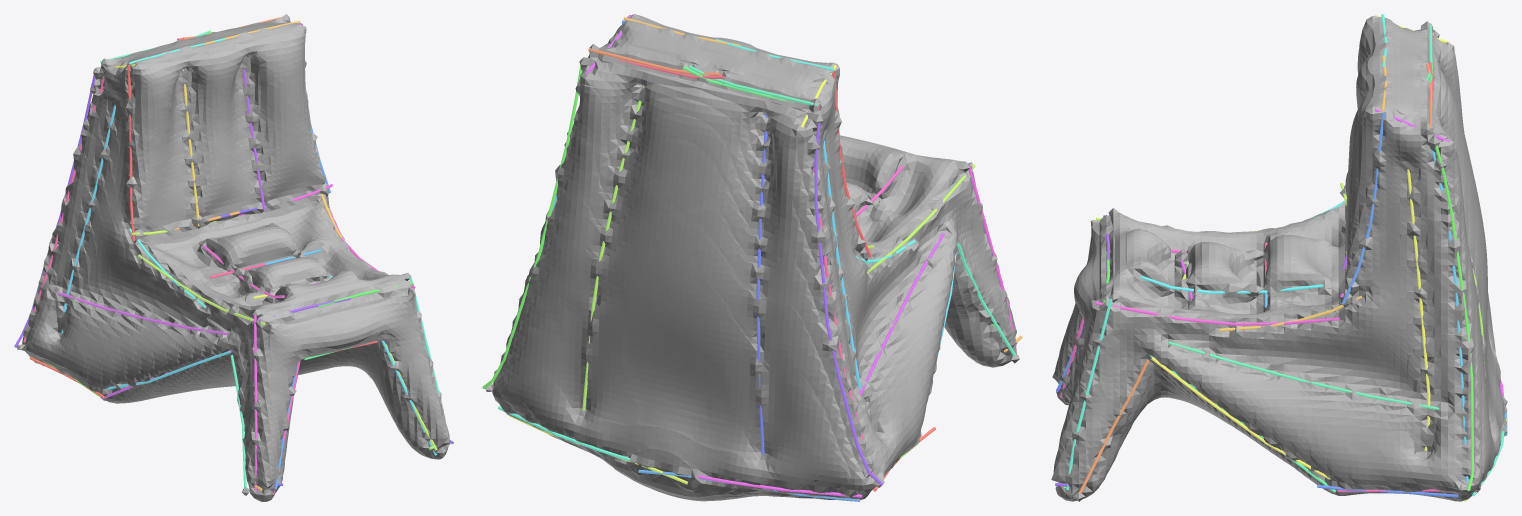
The model's file is author1_chair_ff.gltf.
The picture shows the model from 3 angles, left to right: view 1: azimuth 30°, elevation 25°; view 2: azimuth 150°, elevation 25°; view 3: azimuth 270°, elevation 25°; orthographic projection. The views are drawn at different scales.
Bounding box in the file's own units: 0.5763 × 0.5784 × 0.6069.
